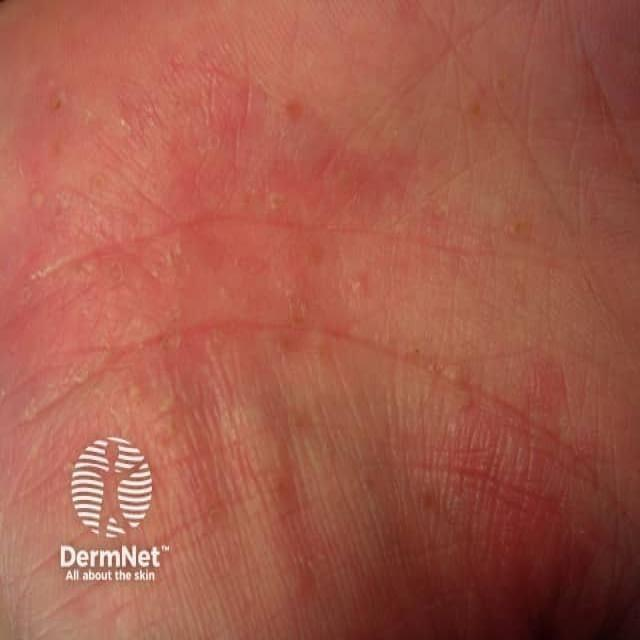Eczema: (0, 38, 604, 590)
